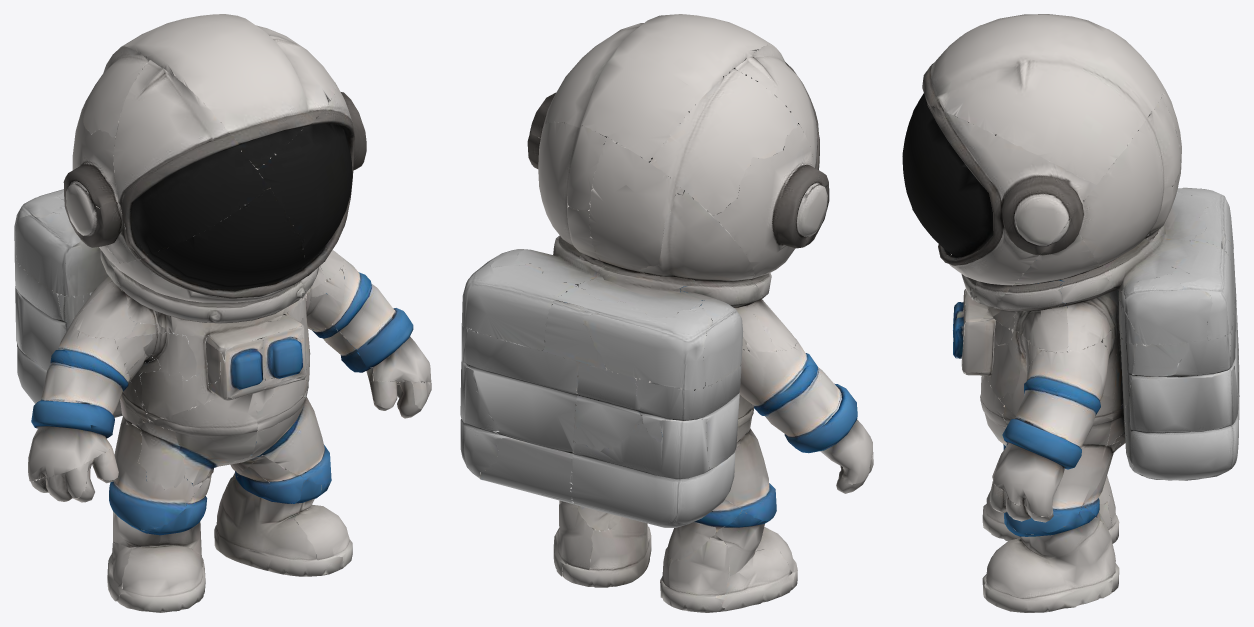
File: astronauta.glb
3 views of the same model, side by side, from view 1: azimuth 30°, elevation 25°; view 2: azimuth 150°, elevation 25°; view 3: azimuth 270°, elevation 25° (orthographic). The views are drawn at different scales.
Parts seen in each view (by area): view 1: tripo_node_80773fdb-fd14-4727-8c70-f5f9ea57d708; view 2: tripo_node_80773fdb-fd14-4727-8c70-f5f9ea57d708; view 3: tripo_node_80773fdb-fd14-4727-8c70-f5f9ea57d708.
Part boxes in pixels (x1,y1,x2,y2): tripo_node_80773fdb-fd14-4727-8c70-f5f9ea57d708: [14, 14, 431, 612]; tripo_node_80773fdb-fd14-4727-8c70-f5f9ea57d708: [460, 14, 873, 612]; tripo_node_80773fdb-fd14-4727-8c70-f5f9ea57d708: [902, 14, 1239, 612].
Bounding box in the file's own units: 0.7593 × 1 × 0.5777.
1 material, 1 textured.
